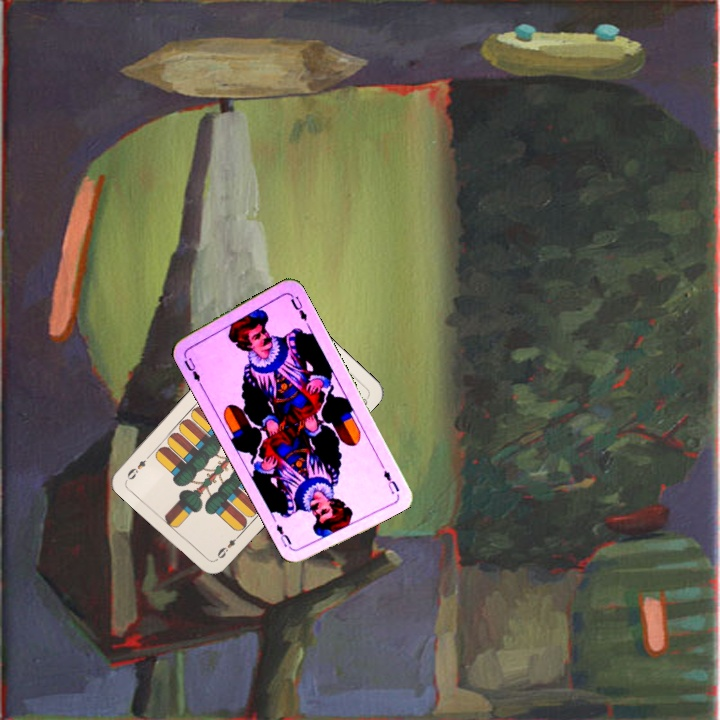E9: (211, 530, 243, 563)
EU: (179, 350, 204, 388), (379, 466, 402, 496)
